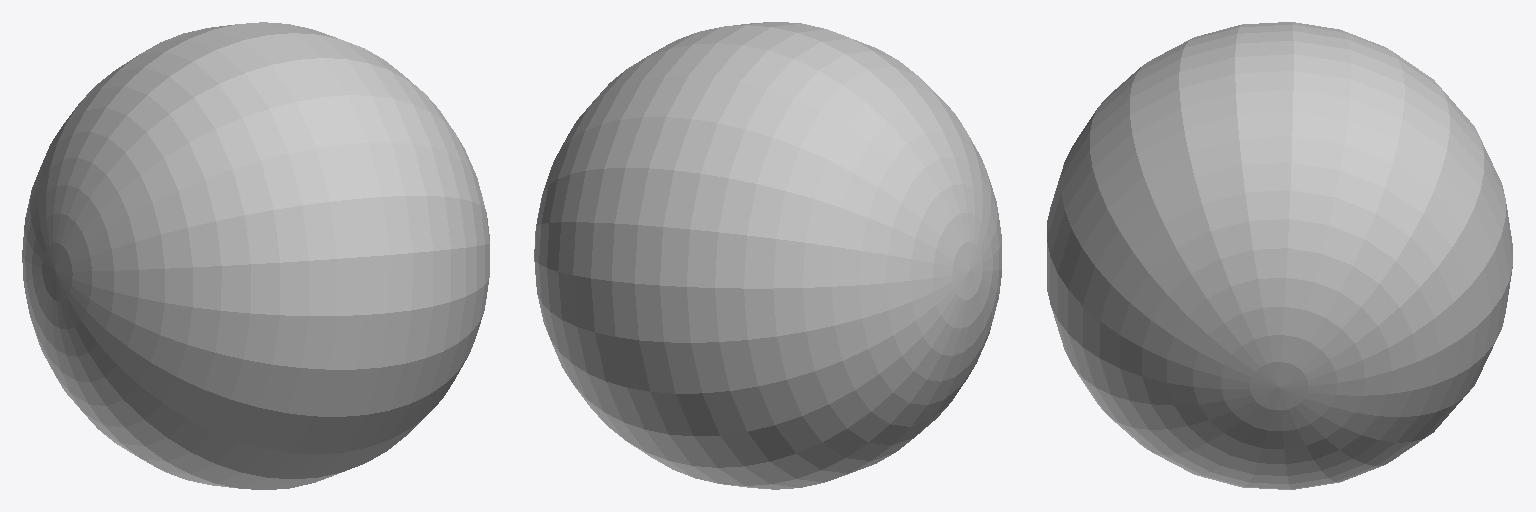
File: CubeWITHAnim0019.obj
3 renders of one model, left to right at view 1: azimuth 30°, elevation 25°; view 2: azimuth 150°, elevation 25°; view 3: azimuth 270°, elevation 25°, orthographic.
Parts seen in each view (by area): view 1: NEWJumpBall_Sphere; view 2: NEWJumpBall_Sphere; view 3: NEWJumpBall_Sphere.
Part boxes in pixels (x1,y1,x2,y2): NEWJumpBall_Sphere: (22, 22, 489, 489); NEWJumpBall_Sphere: (534, 22, 1001, 489); NEWJumpBall_Sphere: (1047, 22, 1512, 489).
Bounding box in the file's own units: 2 × 2 × 1.99.